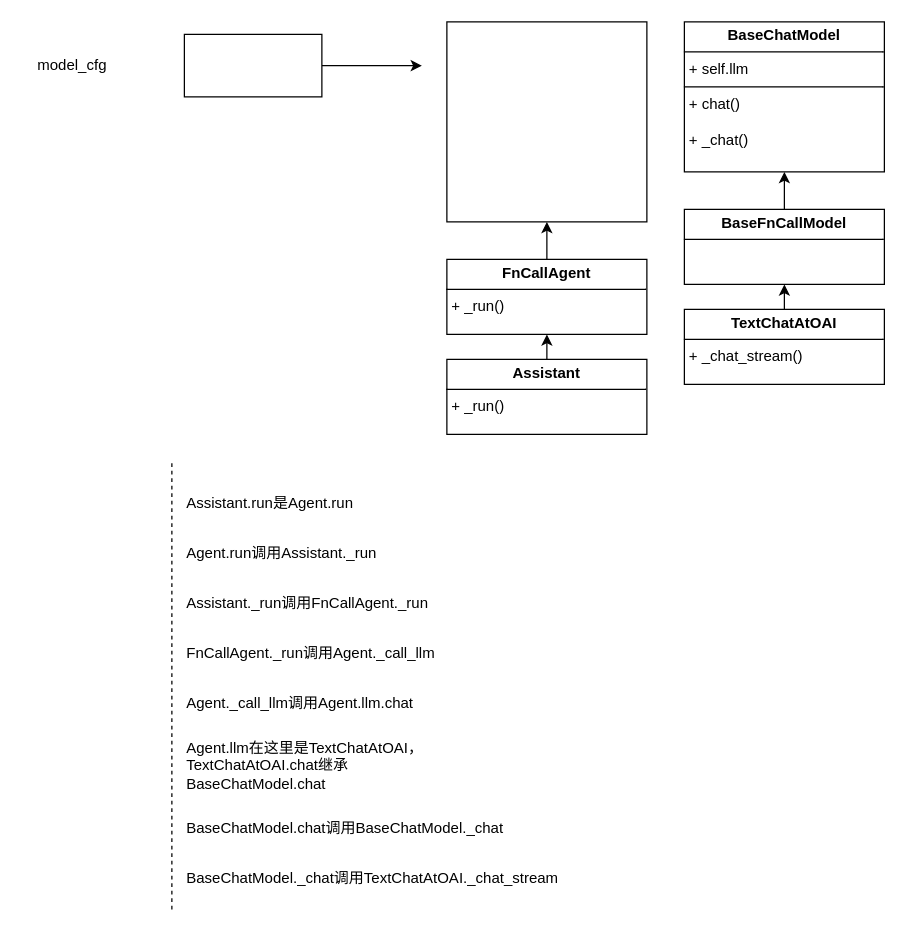
Some shapes in this 906 by 933 pixel diagram are drawn without their labels. The box of each missing label's shape, as (x1, y1, x2, y2) in pixels:
Agent + self.llm + run() + _run() + _call_llm(): (446, 21, 647, 222)
get_chat_model: (183, 33, 322, 97)
